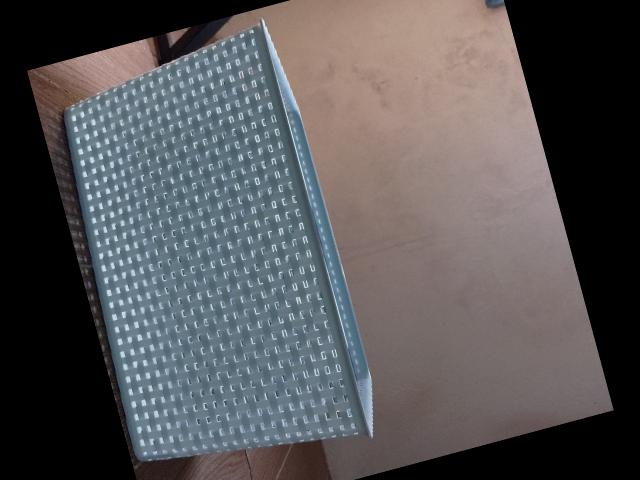cart: (61, 17, 372, 463)
